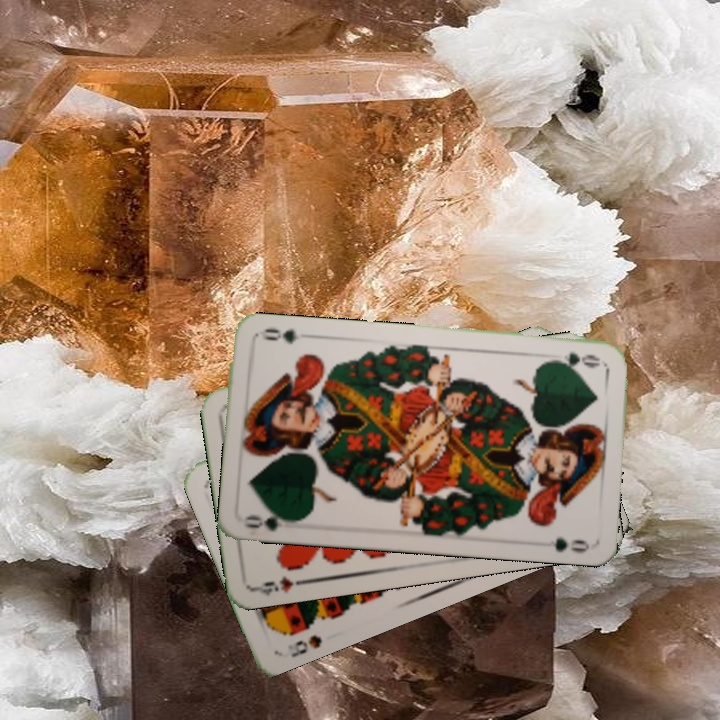GO: (242, 507, 302, 535), (545, 349, 603, 371)
H9: (251, 572, 310, 598)
S8: (287, 630, 325, 660)
